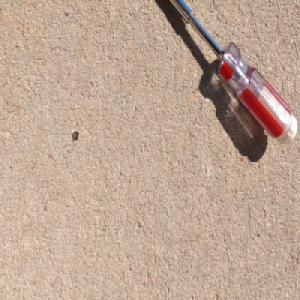Screwdriver: (166, 0, 298, 147)
